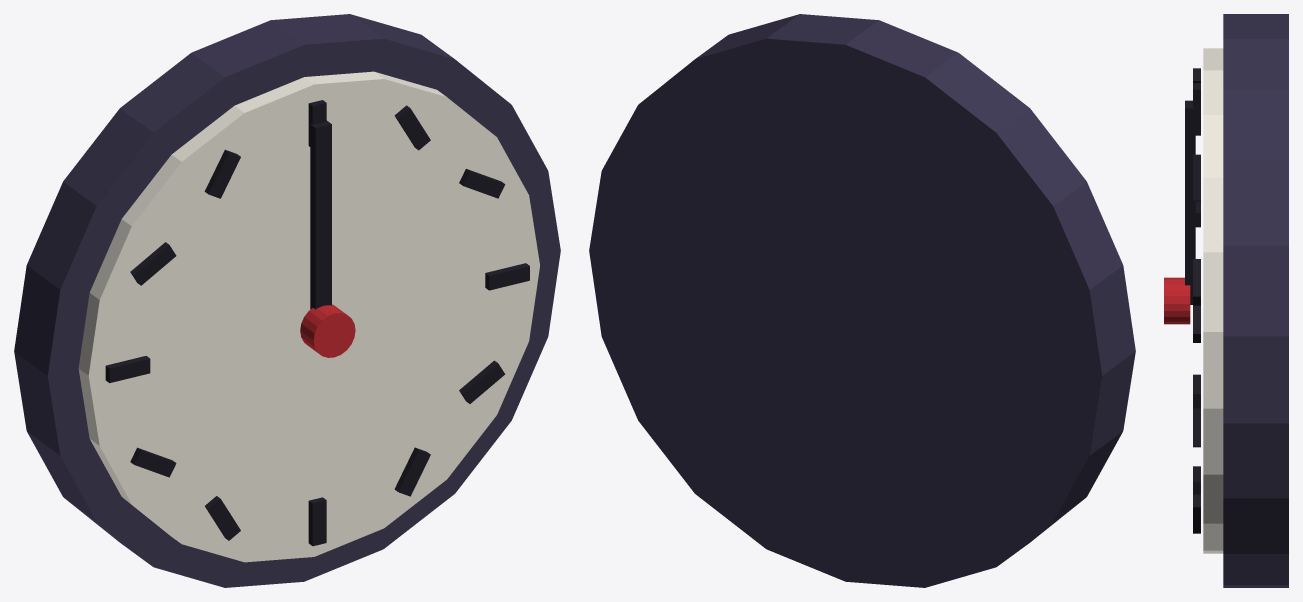
Rendered from orologio.glb.
The picture shows the model from 3 angles, left to right: view 1: azimuth 30°, elevation 25°; view 2: azimuth 150°, elevation 25°; view 3: azimuth 270°, elevation 25°; orthographic projection. The views are drawn at different scales.
Visible parts, largest first — view 1: quadrante, cassa, lancia, perno, tacca.011, tacca.005, tacca.004, tacca.010, tacca.006, tacca.009, tacca.003, tacca.001 (+3 smaller); view 2: cassa; view 3: cassa, quadrante, lancia, perno, lancia.001, tacca.001, tacca.002, tacca, tacca.005, tacca.007, tacca.008, tacca.003.
Boxes of the visible parts, x1,y1,x2,y2 form: quadrante: (78, 71, 539, 562); cassa: (14, 14, 560, 587); lancia: (310, 120, 331, 309); perno: (300, 304, 355, 357); tacca.011: (204, 149, 240, 198); tacca.005: (394, 447, 430, 496); tacca.004: (459, 360, 505, 403); tacca.010: (130, 242, 176, 285); tacca.006: (308, 497, 326, 546); tacca.009: (105, 356, 150, 383); tacca.003: (485, 263, 529, 290); tacca.001: (394, 105, 430, 150); cassa: (589, 14, 1135, 587); cassa: (1223, 14, 1288, 587); quadrante: (1203, 48, 1223, 553); lancia: (1185, 100, 1195, 304); perno: (1164, 277, 1190, 324); lancia.001: (1185, 174, 1195, 304); tacca.001: (1193, 154, 1200, 201); tacca.002: (1193, 259, 1200, 305); tacca: (1193, 83, 1200, 131); tacca.005: (1193, 494, 1200, 533); tacca.007: (1193, 408, 1200, 447); tacca.008: (1193, 305, 1200, 342); tacca.003: (1193, 374, 1200, 408).
Bounding box in the file's own units: 0.44 × 0.44 × 0.095.
